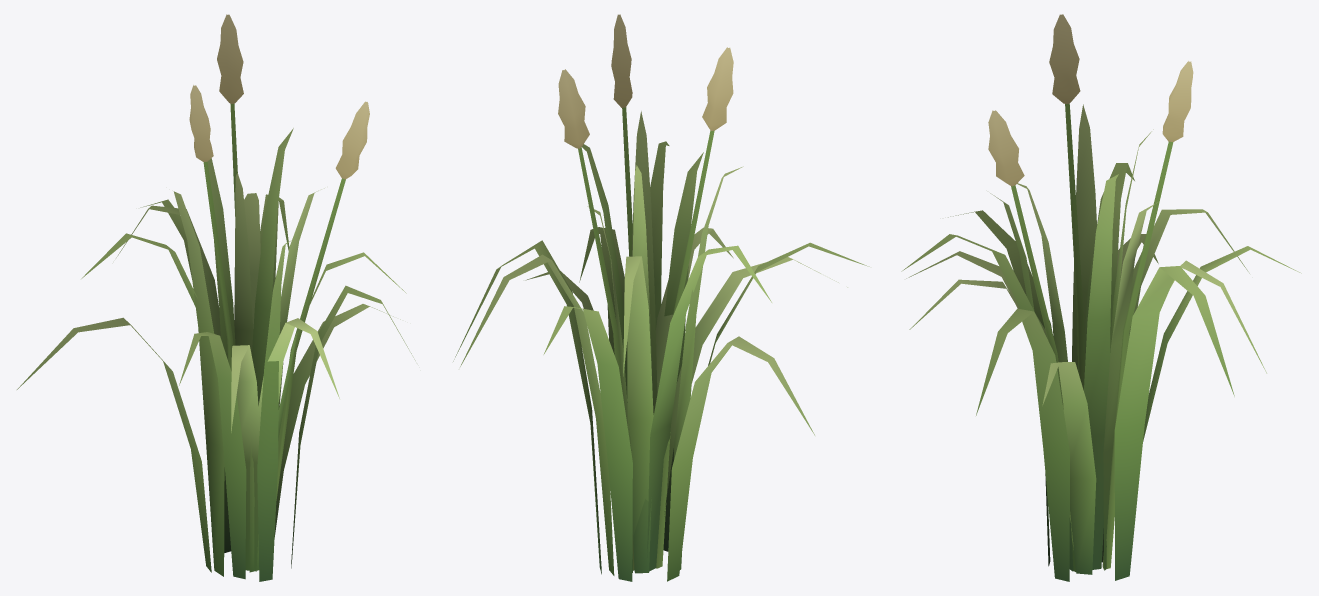
The model's file is deco-tallgrass-v1.glb.
3 renders of one model, left to right at view 1: azimuth 30°, elevation 25°; view 2: azimuth 150°, elevation 25°; view 3: azimuth 270°, elevation 25°, orthographic. The views are drawn at different scales.
Visible parts, largest first — view 1: 0_tallgrass; view 2: 0_tallgrass; view 3: 0_tallgrass.
Boxes of the visible parts, bbox=[...] form: 0_tallgrass: bbox=[17, 14, 415, 581]; 0_tallgrass: bbox=[453, 14, 869, 581]; 0_tallgrass: bbox=[901, 14, 1301, 581].
Size of the model in its own units: 0.8486 by 1.21 by 0.8567.
